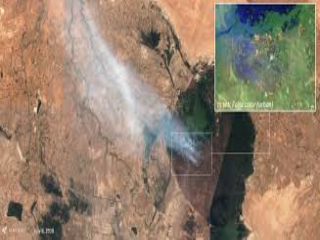smoke: (68, 4, 198, 168)
